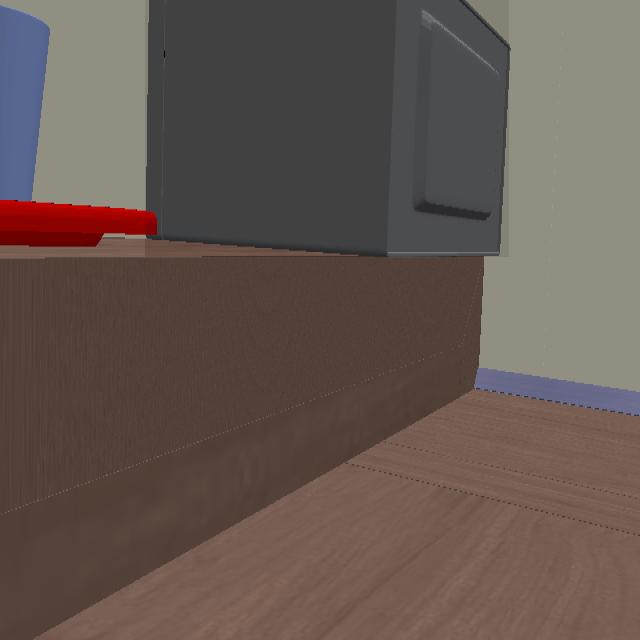microwave: (145, 0, 509, 257)
